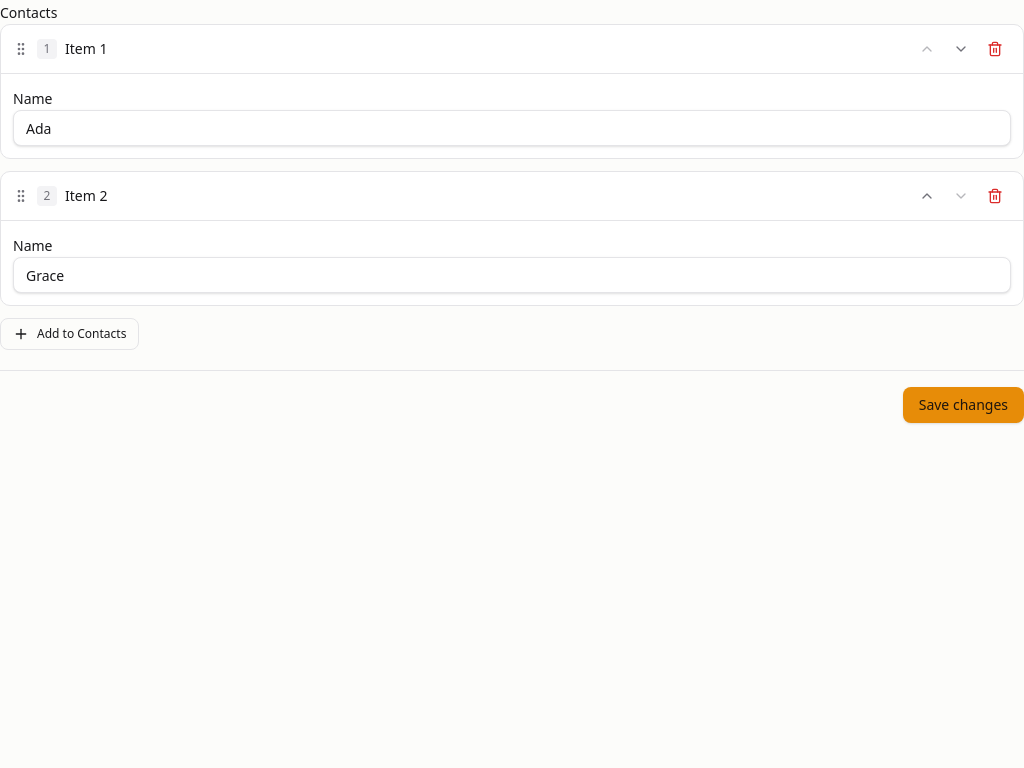
Test: confirmation › falls back to a generated heading and default wording
What coordinates should you click on to do the following:
click the button named "Delete Item 1"
I would click on:
 (995, 49)
Its box is [979,33,1011,65].
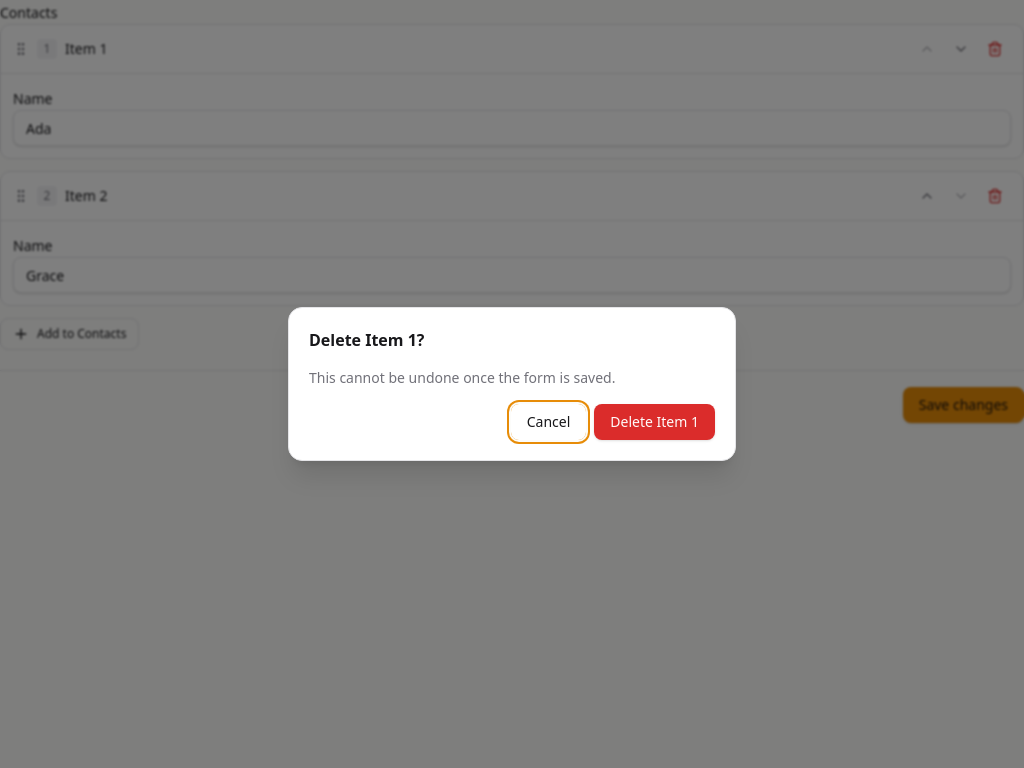
Expected: the heading "Delete Item 1?" is shown, [309,329,424,351]
Expected: the text "This cannot be undone once the form is saved." is shown, [309,368,616,387]
Expected: the button "Cancel" is shown, [511,404,586,440]
